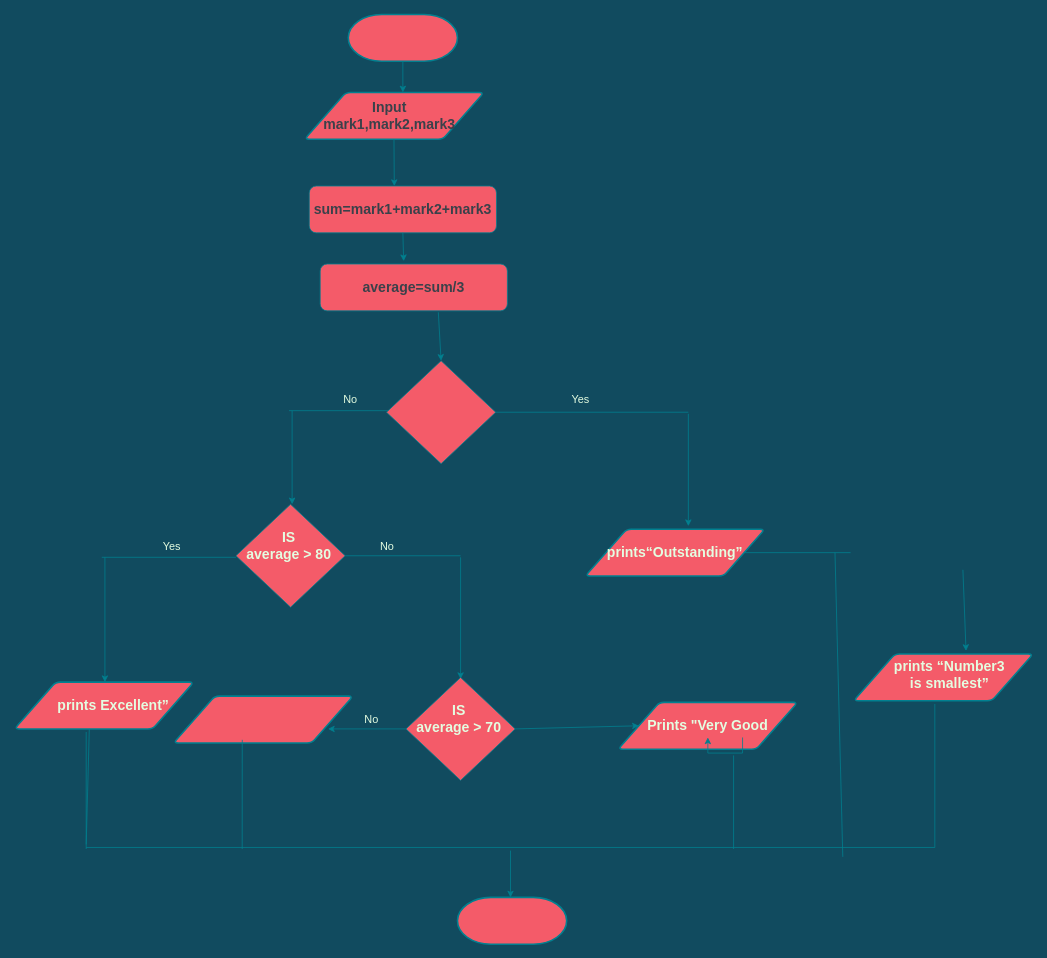
Image size: 1047x958. Some labels were removed from this diagram. Here are the shapes that lost their labels. From the top down, the centre of each, then its label:
point 402,37: Start
point 441,412: IS average > 90
point 262,719: prints "You need to workd hard”
point 511,920: End
